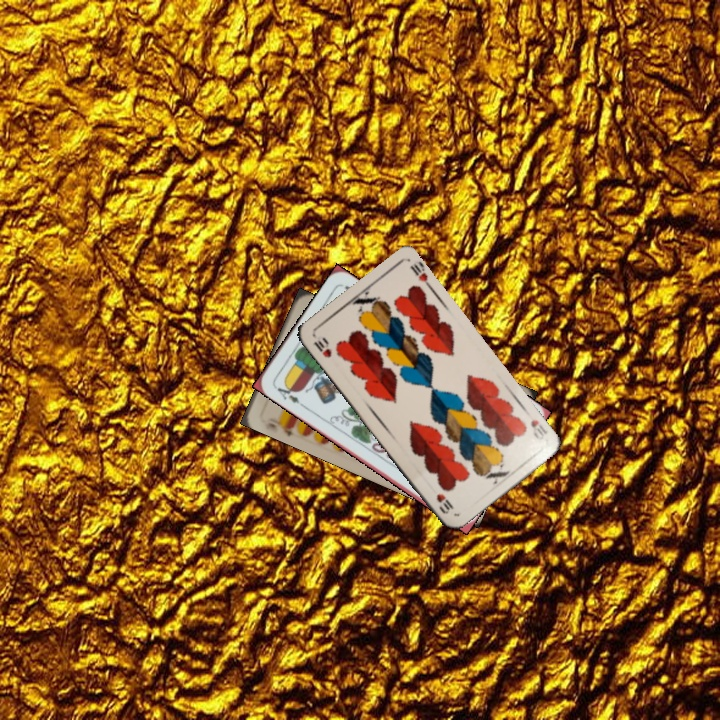E10: (257, 414, 297, 439)
EA: (270, 379, 306, 409)
H10: (310, 334, 334, 360), (527, 416, 550, 443)
